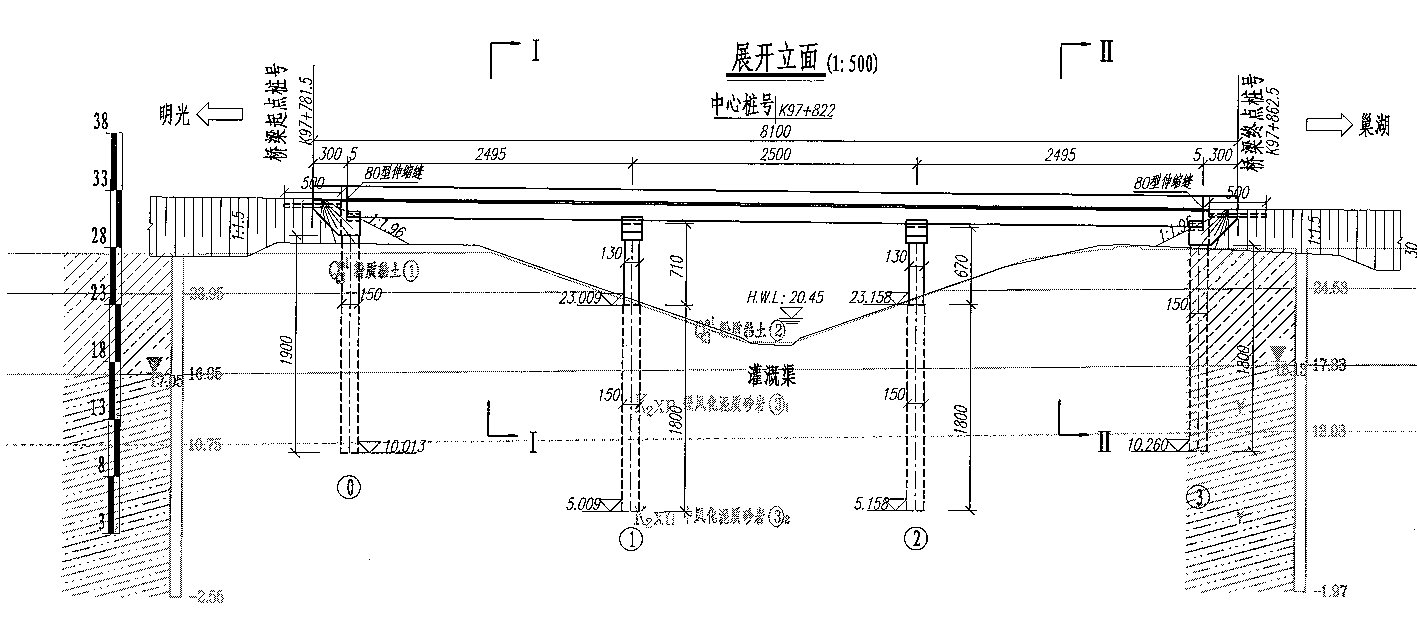C: (544, 208, 662, 556), (834, 211, 945, 556), (1125, 218, 1218, 513)
D: (739, 283, 832, 343)
